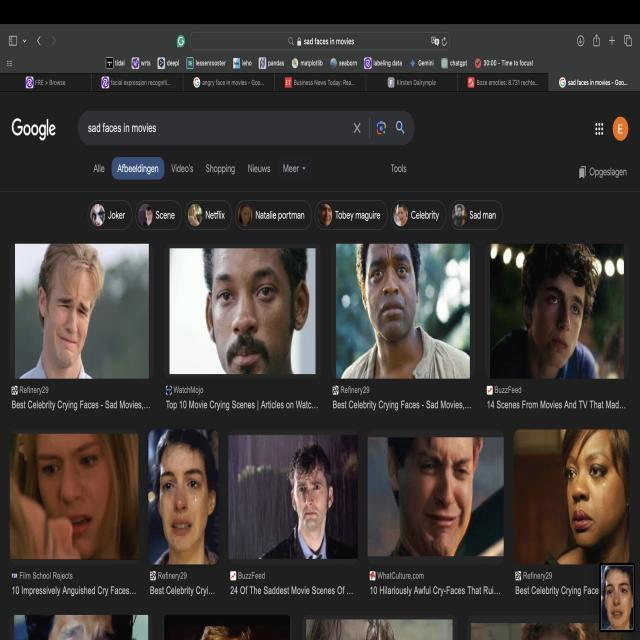sad: (27, 247, 118, 380)
